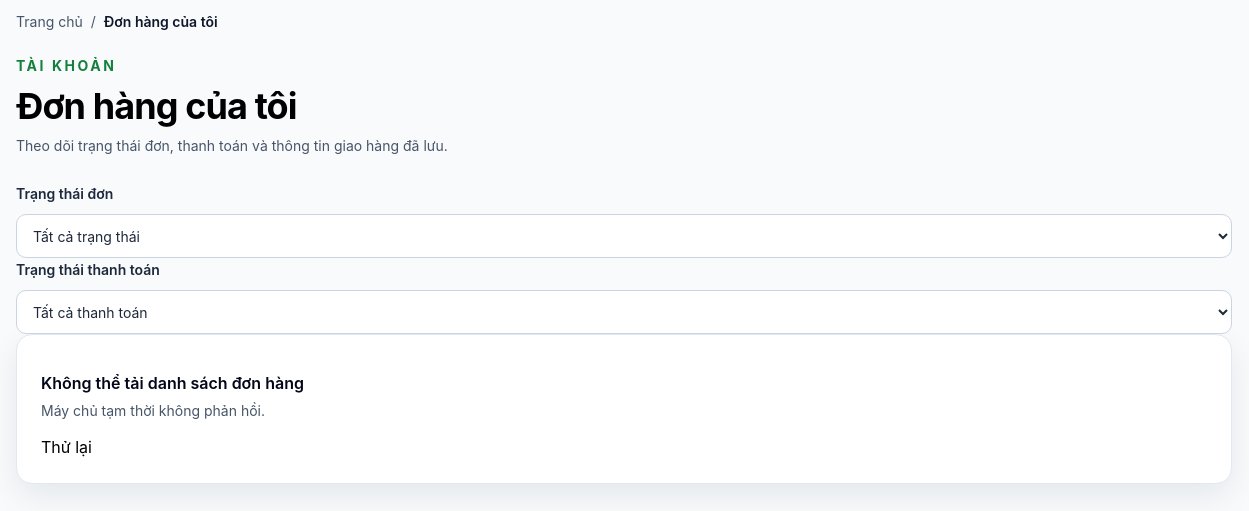
Test: OrdersPage › renders an API error and supports retry
The width and height of the screenshot is (1249, 511).
expect the heading "Không thể tải danh sách đơn hàng" is shown: met, box [41,371,304,395]
expect the text "Máy chủ tạm thời không phản hồi." is shown: met, box [41,399,304,423]
Click the button "Thử lại". click: click(66, 447)
box: [41,435,92,459]
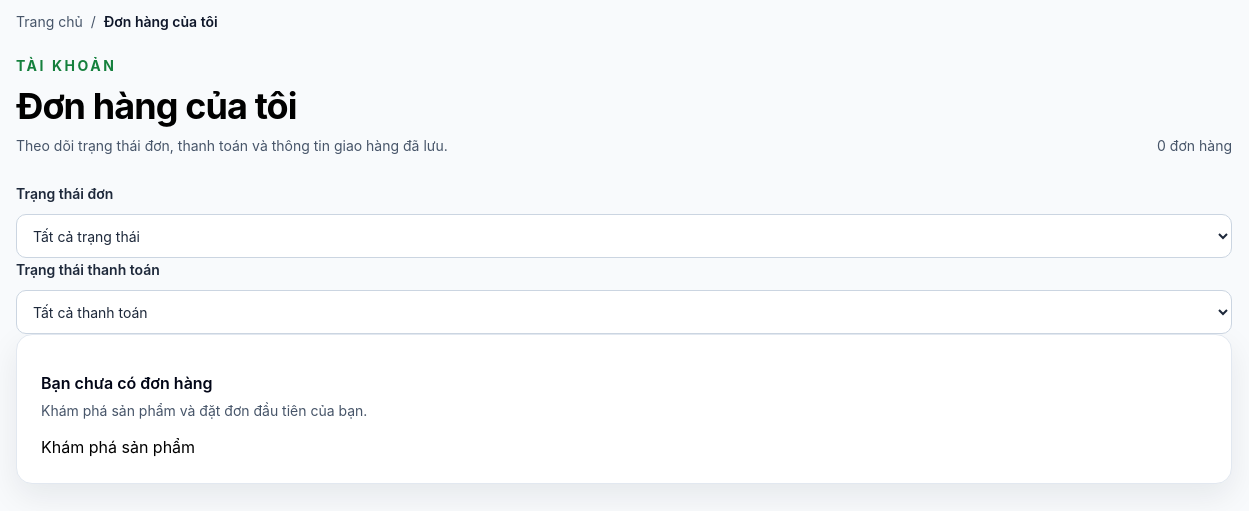
expect the heading "Bạn chưa có đơn hàng" is shown: met, box [41,373,213,393]
